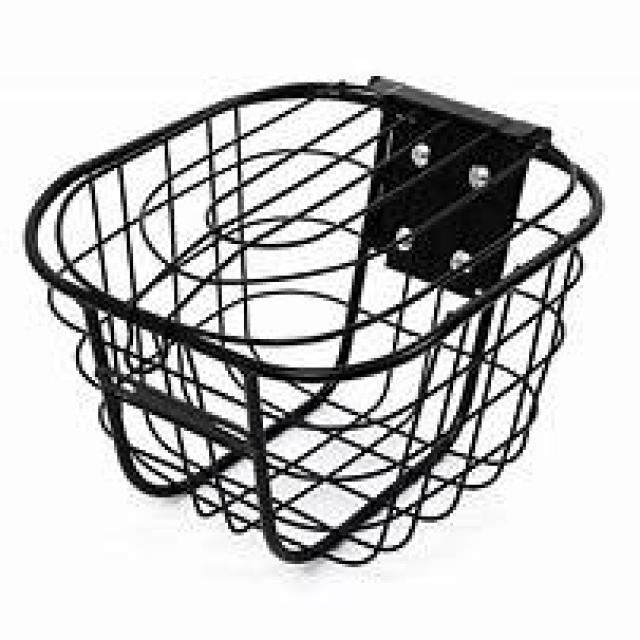basket: (26, 71, 602, 569)
